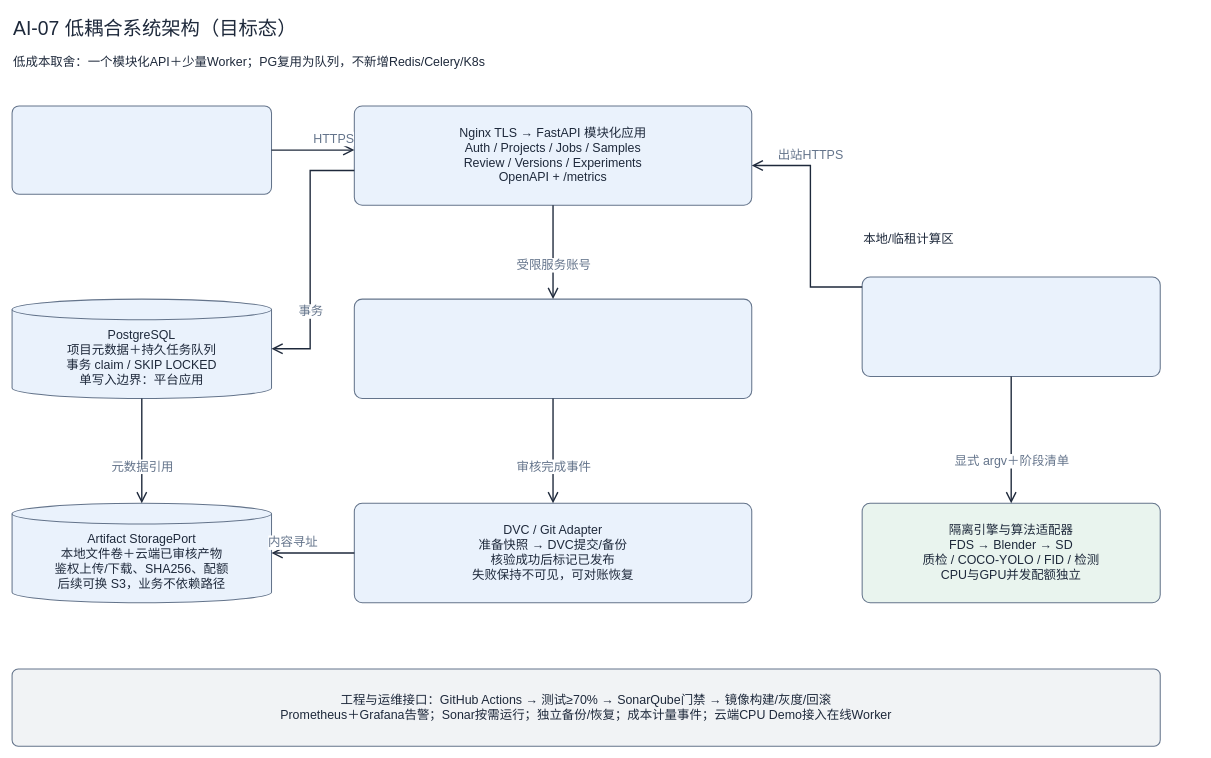
This 1211x758 diagram has some shape labels left out. The box of each missing label's shape, as (x1, y1, x2, y2) in pixels:
Label Studio（内部服务） API 同步真实任务与标签 平台框编辑 → 受限代理API 不共享管理员令牌给浏览器: (353, 298, 752, 399)
本机或按需 GPU Worker 主动 HTTPS 拉取任务 lease / heartbeat / timeout 只通过内部API回传业务状态: (861, 276, 1160, 377)
浏览器：Vue3＋TypeScript 场景/任务/对比/审核/版本/评价 单一项目权限上下文: (11, 105, 272, 194)
